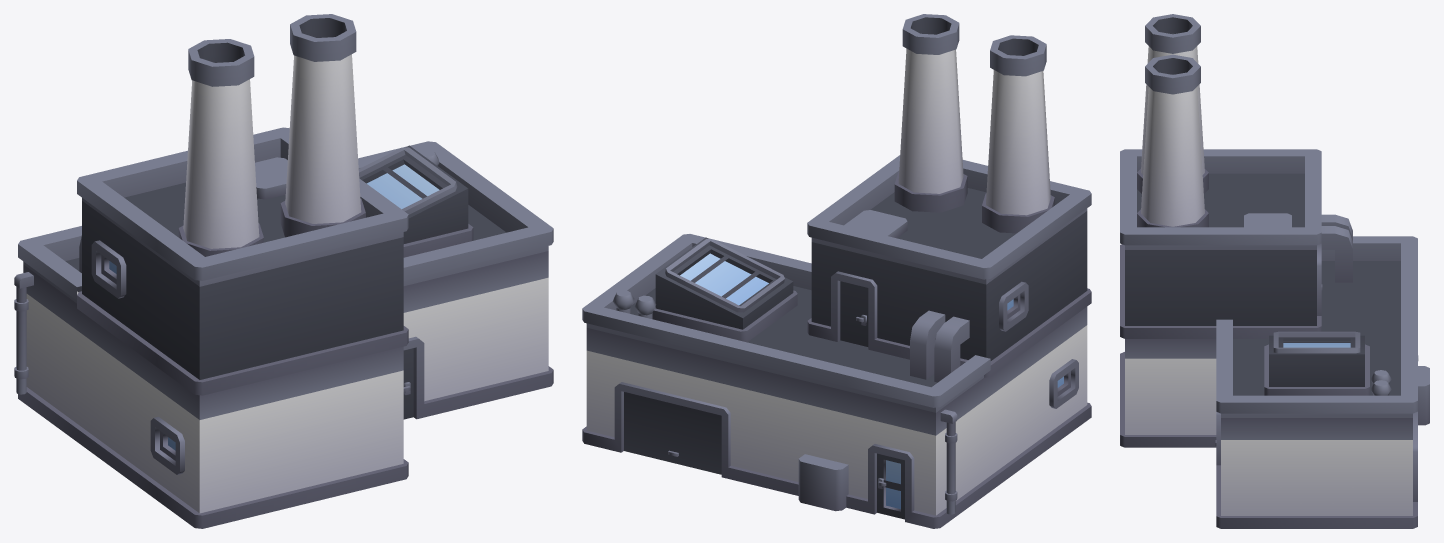
The model's file is kenney-industrial_building-e.glb.
3 renders of one model, left to right at view 1: azimuth 30°, elevation 25°; view 2: azimuth 150°, elevation 25°; view 3: azimuth 270°, elevation 25°, orthographic. The views are drawn at different scales.
Parts seen in each view (by area): view 1: building-e; view 2: building-e; view 3: building-e.
Part boxes in pixels (x1,y1,x2,y2): building-e: (14,14,553,528); building-e: (582,14,1091,528); building-e: (1120,14,1429,528).
Size of the model in its own units: 1.68 by 1.65 by 1.29.
Materials: 2 (2 with a texture image).
